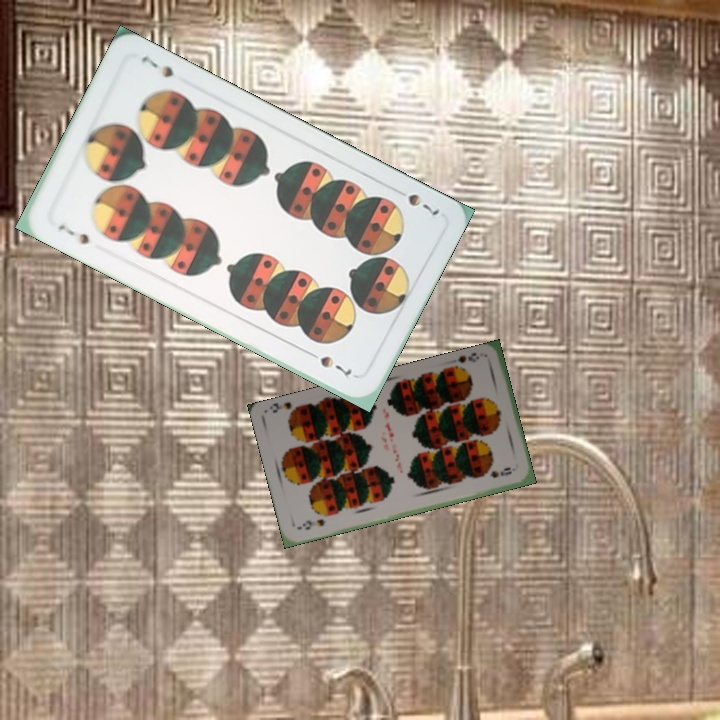S7: (403, 189, 442, 219), (54, 220, 92, 248)
S9: (448, 349, 482, 374), (294, 515, 329, 532)
